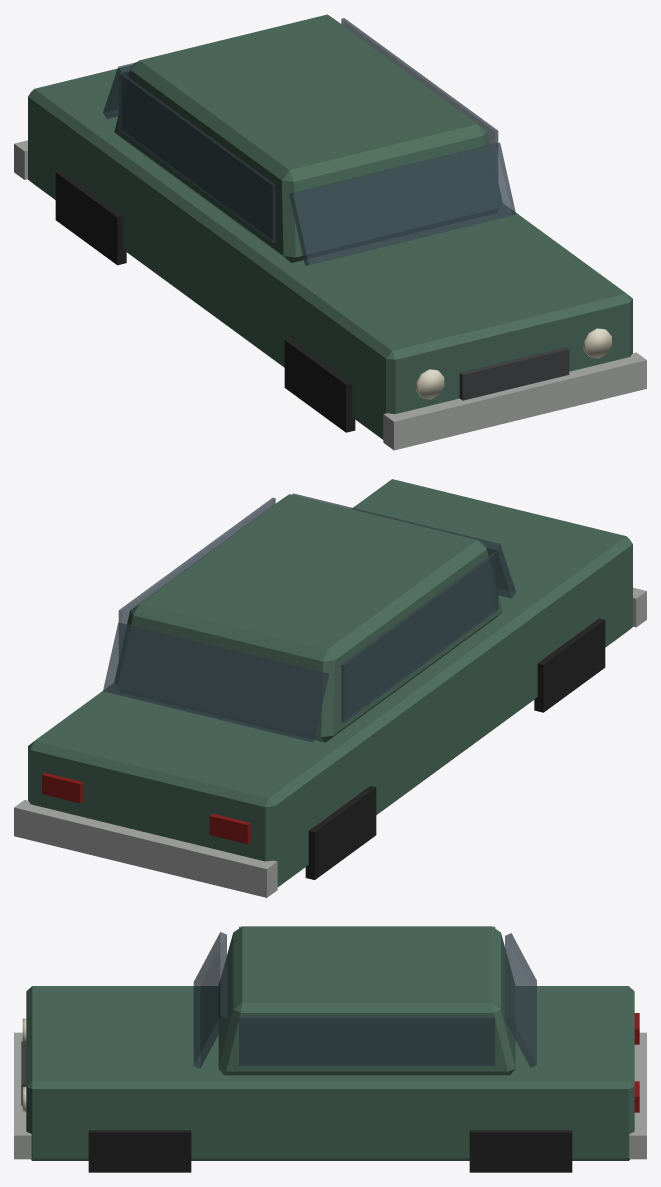
Rendered from sedan_body_green.glb.
3 views of the same model, one above another, from view 1: azimuth 30°, elevation 25°; view 2: azimuth 150°, elevation 25°; view 3: azimuth 270°, elevation 25° (orthographic). The views are drawn at different scales.
Visible parts, largest first — view 1: Body; view 2: Body; view 3: Body.
Boxes of the visible parts, x1,y1,x2,y2 form: Body: (14,14,646,450); Body: (14,479,646,897); Body: (14,926,646,1172).
Bounding box in the file's own units: 1.7 × 1.17 × 4.32.
